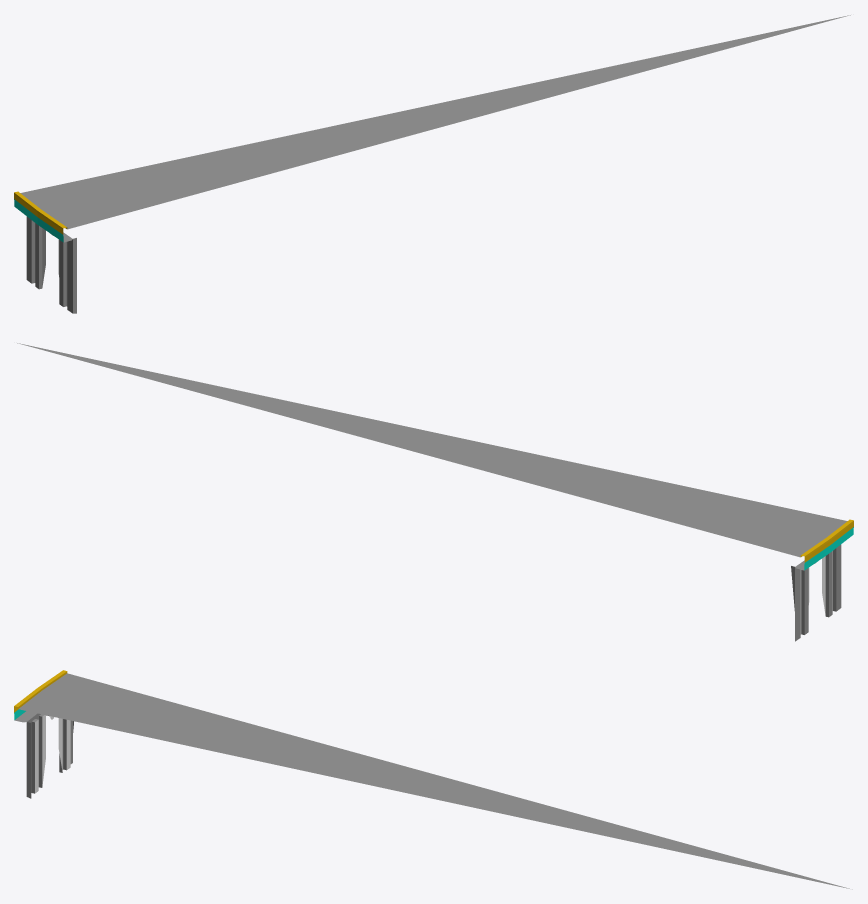
File: PlateauDoorSegments.fbx
3 renders of one model, top to bottom at view 1: azimuth 30°, elevation 25°; view 2: azimuth 150°, elevation 25°; view 3: azimuth 330°, elevation 25°, orthographic.
Visible parts, largest first — view 1: PlateauDoorSegments; view 2: PlateauDoorSegments; view 3: PlateauDoorSegments.
Boxes of the visible parts, <box> form: PlateauDoorSegments: <box>14,15,850,313</box>; PlateauDoorSegments: <box>17,343,853,641</box>; PlateauDoorSegments: <box>14,670,852,889</box>.
Bounding box in the file's own units: 600 × 63.28 × 62.8.
